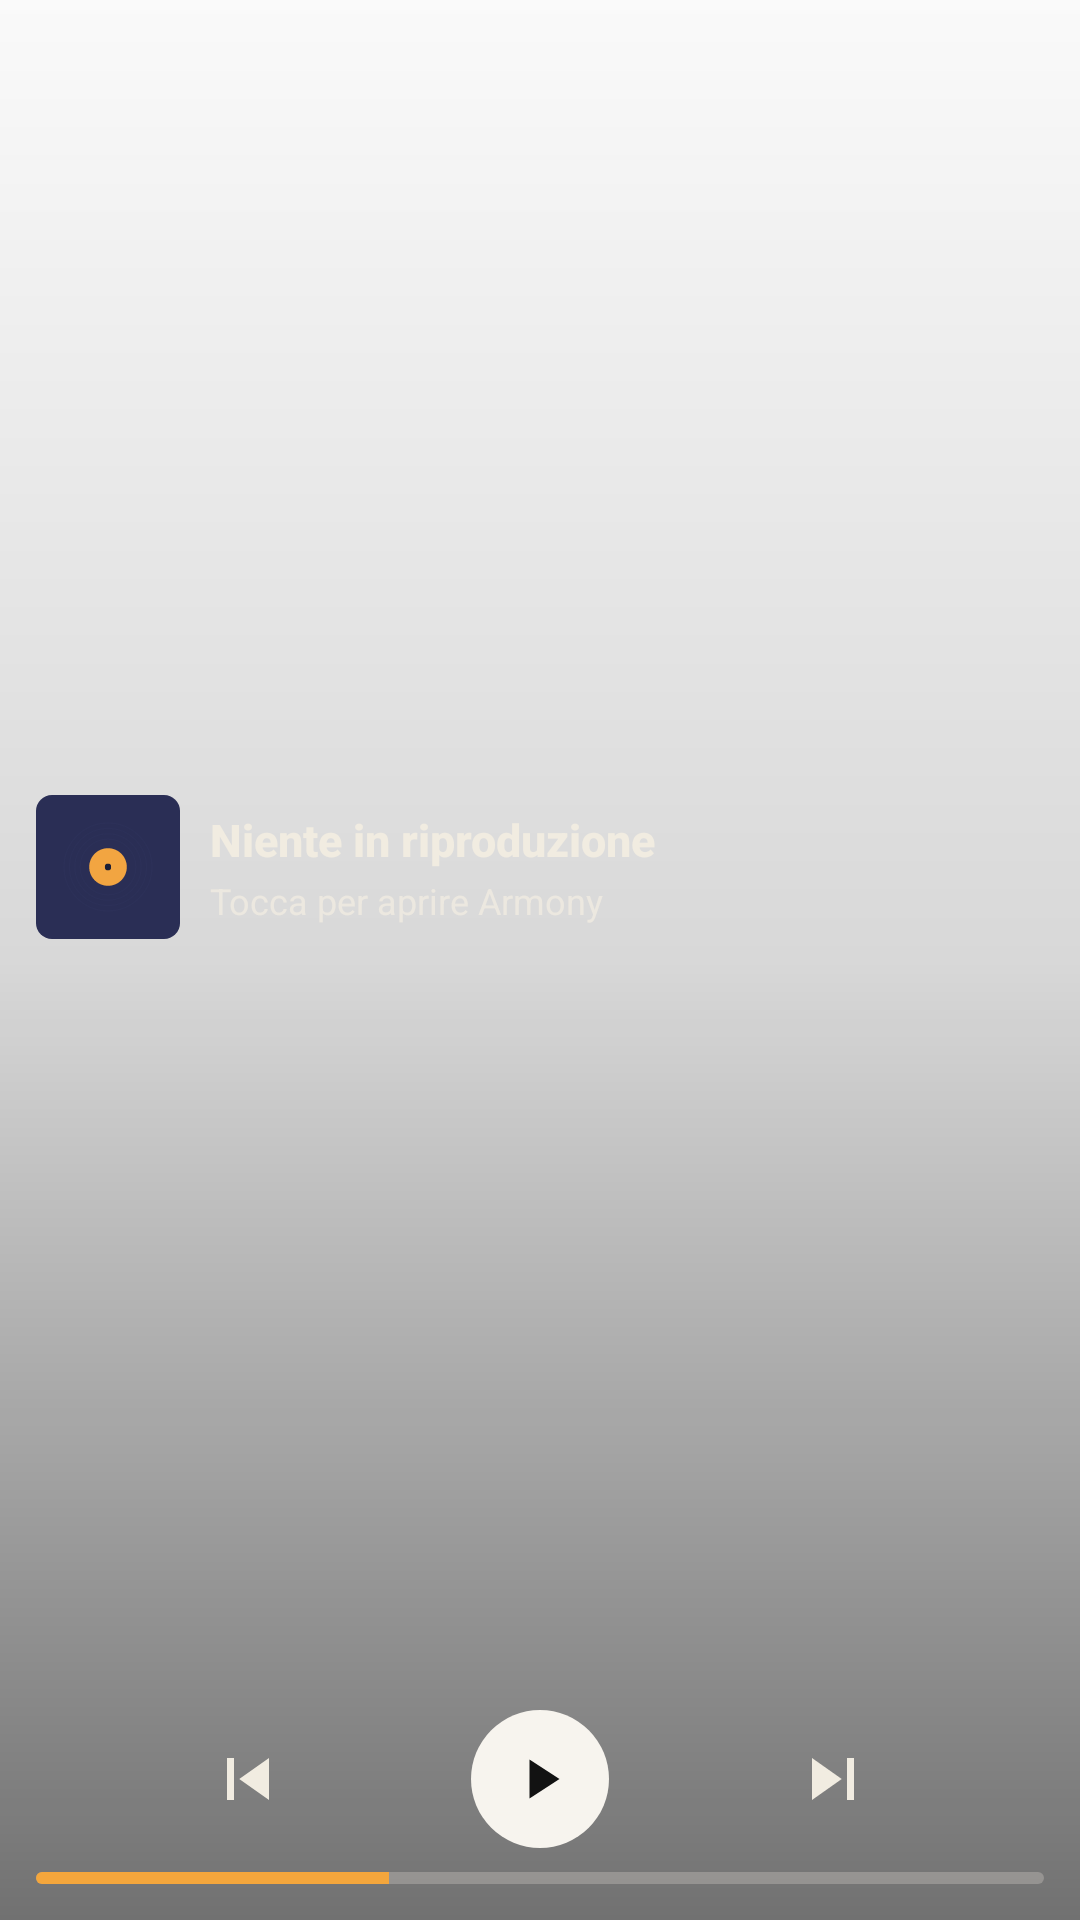

Named icons in this screenshot (1080x1920) and their centers, (x,y):
Precedente: (248,1779)
Riproduci: (540,1779)
Successivo: (833,1779)
